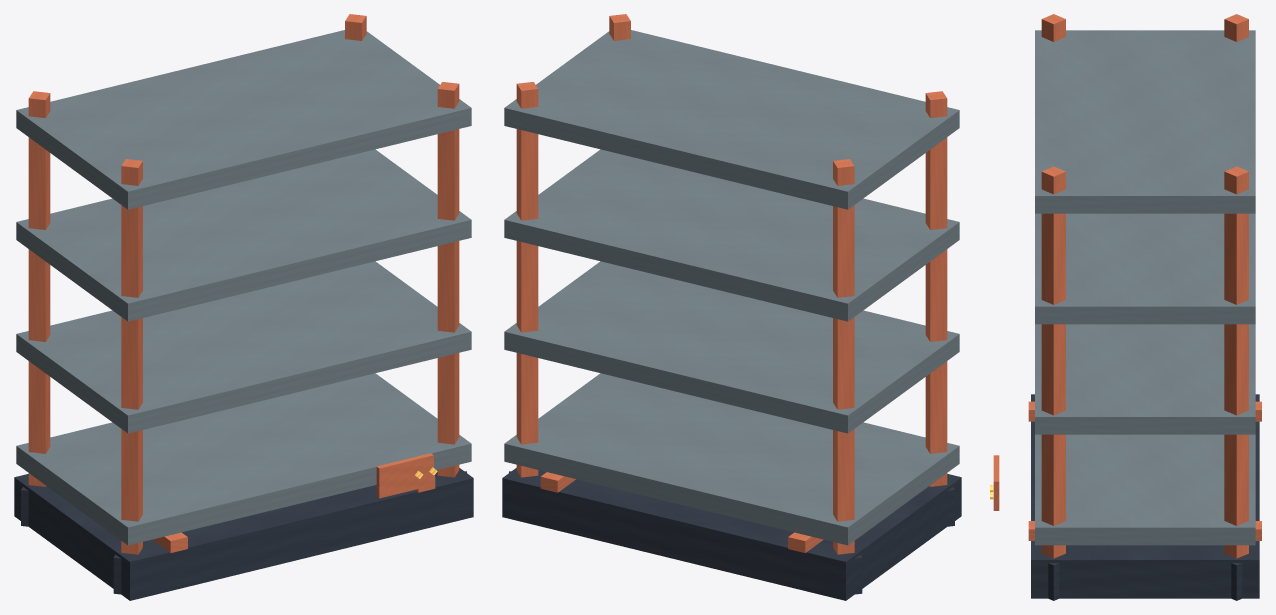
File: atlas100-s022-a06.lod1.glb
3 renders of one model, left to right at view 1: azimuth 30°, elevation 25°; view 2: azimuth 150°, elevation 25°; view 3: azimuth 270°, elevation 25°, orthographic.
Parts seen in each view (by area): view 1: atlas100-s022-a06:part-014, atlas100-s022-a06:part-013, atlas100-s022-a06:part-012, atlas100-s022-a06:part-011, atlas100-s022-a06:part-000, atlas100-s022-a06:part-009, atlas100-s022-a06:part-005, atlas100-s022-a06:part-003, atlas100-s022-a06:part-015; view 2: atlas100-s022-a06:part-014, atlas100-s022-a06:part-011, atlas100-s022-a06:part-013, atlas100-s022-a06:part-012, atlas100-s022-a06:part-000, atlas100-s022-a06:part-007, atlas100-s022-a06:part-003, atlas100-s022-a06:part-005; view 3: atlas100-s022-a06:part-014, atlas100-s022-a06:part-013, atlas100-s022-a06:part-011, atlas100-s022-a06:part-012, atlas100-s022-a06:part-000, atlas100-s022-a06:part-007, atlas100-s022-a06:part-009, atlas100-s022-a06:part-005, atlas100-s022-a06:part-003, atlas100-s022-a06:part-008, atlas100-s022-a06:part-010, atlas100-s022-a06:part-015.
Part boxes in pixels (x1,y1,x2,y2): atlas100-s022-a06:part-014: (16, 30, 471, 209); atlas100-s022-a06:part-013: (16, 149, 471, 321); atlas100-s022-a06:part-012: (16, 261, 471, 433); atlas100-s022-a06:part-011: (16, 373, 471, 545); atlas100-s022-a06:part-000: (14, 468, 473, 600); atlas100-s022-a06:part-009: (437, 82, 459, 477); atlas100-s022-a06:part-005: (121, 159, 142, 554); atlas100-s022-a06:part-003: (28, 91, 50, 486); atlas100-s022-a06:part-015: (376, 453, 433, 498); atlas100-s022-a06:part-014: (504, 30, 959, 209); atlas100-s022-a06:part-011: (504, 373, 959, 545); atlas100-s022-a06:part-013: (504, 149, 959, 321); atlas100-s022-a06:part-012: (504, 261, 959, 433); atlas100-s022-a06:part-000: (502, 468, 961, 600); atlas100-s022-a06:part-007: (516, 82, 538, 477); atlas100-s022-a06:part-003: (833, 159, 854, 554); atlas100-s022-a06:part-005: (925, 91, 947, 486); atlas100-s022-a06:part-014: (1035, 30, 1255, 213); atlas100-s022-a06:part-013: (1035, 213, 1255, 324); atlas100-s022-a06:part-011: (1035, 434, 1255, 545); atlas100-s022-a06:part-012: (1035, 324, 1255, 434); atlas100-s022-a06:part-000: (1031, 394, 1259, 598); atlas100-s022-a06:part-007: (1224, 166, 1248, 558); atlas100-s022-a06:part-009: (1041, 166, 1065, 558); atlas100-s022-a06:part-005: (1041, 14, 1065, 41); atlas100-s022-a06:part-003: (1224, 14, 1248, 41); atlas100-s022-a06:part-008: (1231, 563, 1242, 600); atlas100-s022-a06:part-010: (1048, 563, 1059, 600); atlas100-s022-a06:part-015: (993, 455, 999, 510).
Size of the model in its own units: 2.47 by 2.84 by 1.66.
4 materials, 4 textured.
